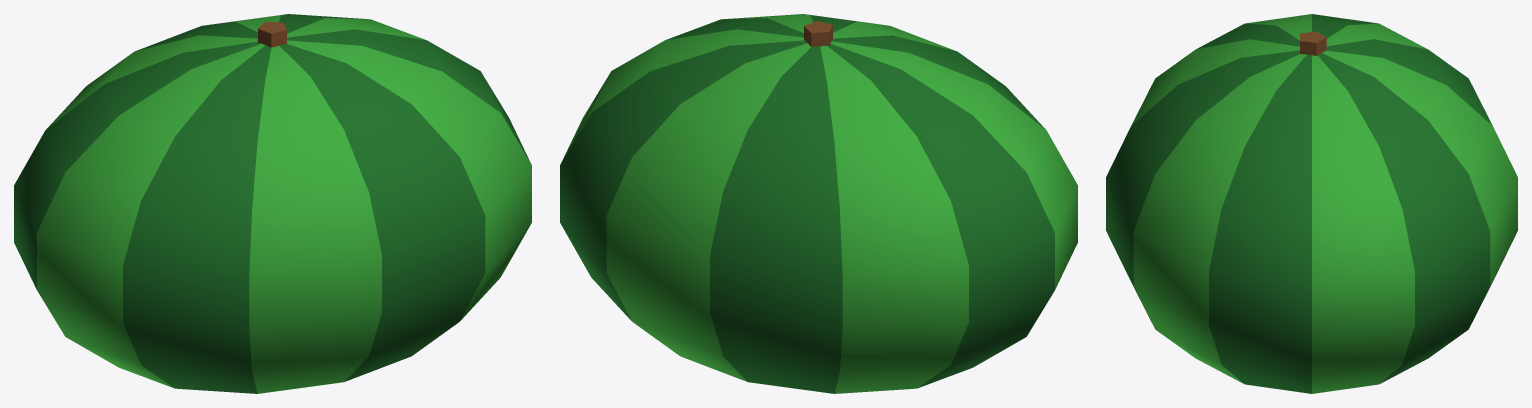
The model's file is Watermelon.fbx.
3 views of the same model, side by side, from view 1: azimuth 30°, elevation 25°; view 2: azimuth 150°, elevation 25°; view 3: azimuth 270°, elevation 25° (orthographic). The views are drawn at different scales.
Parts seen in each view (by area): view 1: Watermelon; view 2: Watermelon; view 3: Watermelon.
Boxes of the visible parts, x1,y1,x2,y2 form: Watermelon: (14,14,531,393); Watermelon: (560,14,1077,393); Watermelon: (1106,14,1517,393).
Bounding box in the file's own units: 2.46 × 1.7 × 1.97.
Materials: 1 (1 with a texture image).
